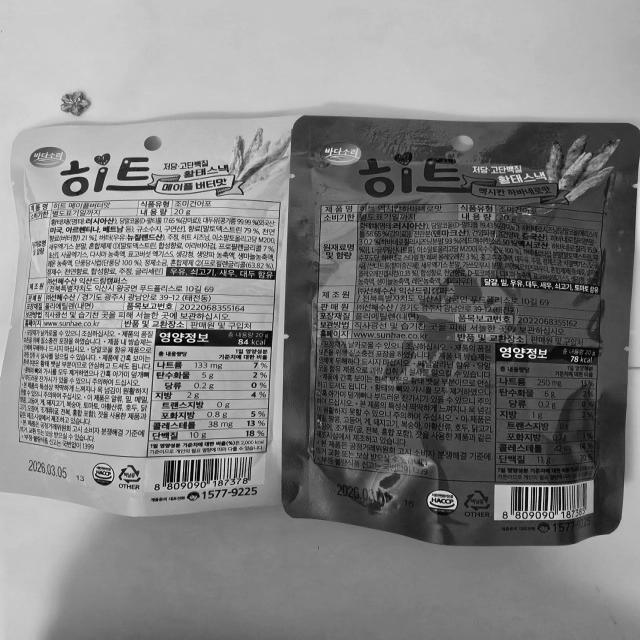Nutrition Label: (138, 319, 291, 468), (487, 334, 610, 490)
